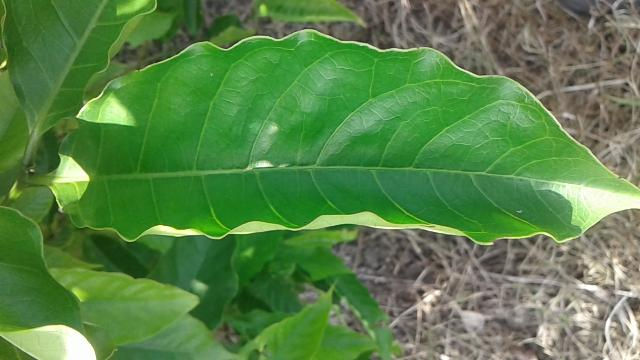healthy: (47, 20, 640, 246)
